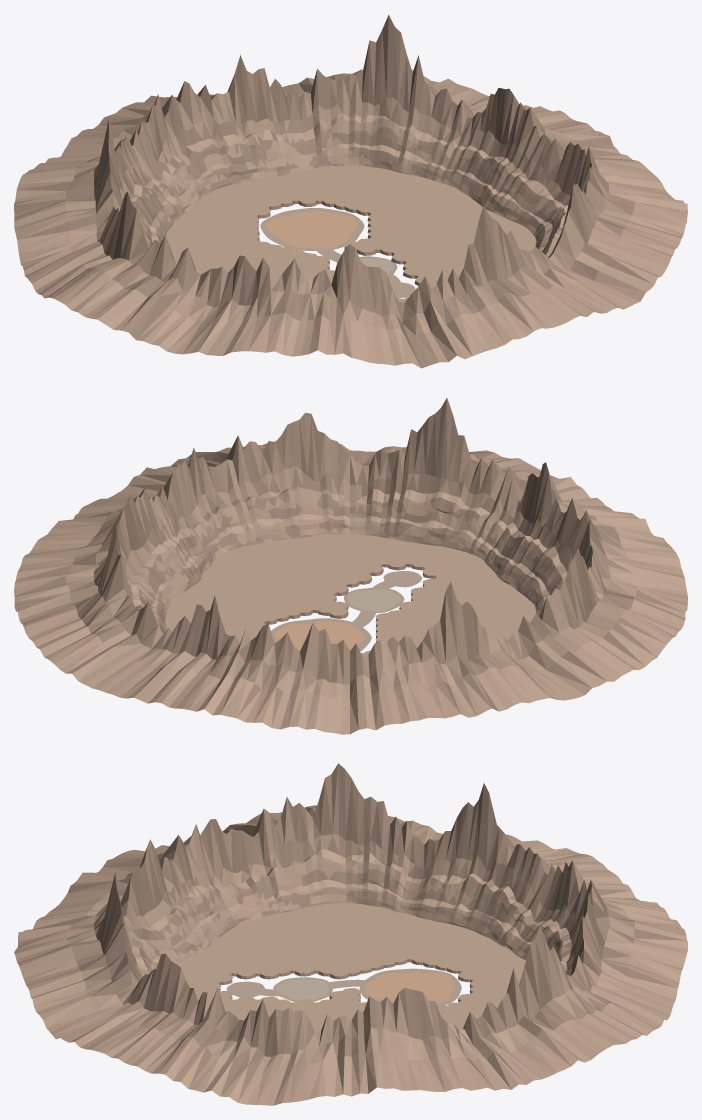
File: map_dg_pedreira_coracao.glb
The picture shows the model from 3 angles, top to bottom: view 1: azimuth 30°, elevation 25°; view 2: azimuth 150°, elevation 25°; view 3: azimuth 270°, elevation 25°; orthographic projection.
Visible parts, largest first — view 1: Z_dg_pedreira_coracao_penhascos, Z_dg_pedreira_coracao_morro_parede_0_0, Z_dg_pedreira_coracao_chao_coracao, Z_dg_pedreira_coracao_praca_coracao; view 2: Z_dg_pedreira_coracao_penhascos, Z_dg_pedreira_coracao_morro_parede_0_0, Z_dg_pedreira_coracao_chao_coracao, Z_dg_pedreira_coracao_chao_galeria, Z_dg_pedreira_coracao_praca_coracao, Z_dg_pedreira_coracao_praca_chegada; view 3: Z_dg_pedreira_coracao_penhascos, Z_dg_pedreira_coracao_morro_parede_0_0, Z_dg_pedreira_coracao_chao_coracao, Z_dg_pedreira_coracao_chao_galeria, Z_dg_pedreira_coracao_praca_coracao.
Part boxes in pixels (x1,y1,x2,y2): Z_dg_pedreira_coracao_penhascos: (14,15,687,368); Z_dg_pedreira_coracao_morro_parede_0_0: (166,165,536,302); Z_dg_pedreira_coracao_chao_coracao: (265,211,357,248); Z_dg_pedreira_coracao_praca_coracao: (260,208,364,250); Z_dg_pedreira_coracao_penhascos: (14,398,687,734); Z_dg_pedreira_coracao_morro_parede_0_0: (165,534,536,655); Z_dg_pedreira_coracao_chao_coracao: (274,621,365,650); Z_dg_pedreira_coracao_chao_galeria: (347,589,400,611); Z_dg_pedreira_coracao_praca_coracao: (271,618,371,651); Z_dg_pedreira_coracao_praca_chegada: (383,571,422,587); Z_dg_pedreira_coracao_penhascos: (14,763,687,1105); Z_dg_pedreira_coracao_morro_parede_0_0: (177,903,525,1031); Z_dg_pedreira_coracao_chao_coracao: (365,972,453,1003); Z_dg_pedreira_coracao_chao_galeria: (276,979,328,1000); Z_dg_pedreira_coracao_praca_coracao: (359,968,461,1006).
Bounding box in the file's own units: 282 × 61.11 × 281.
